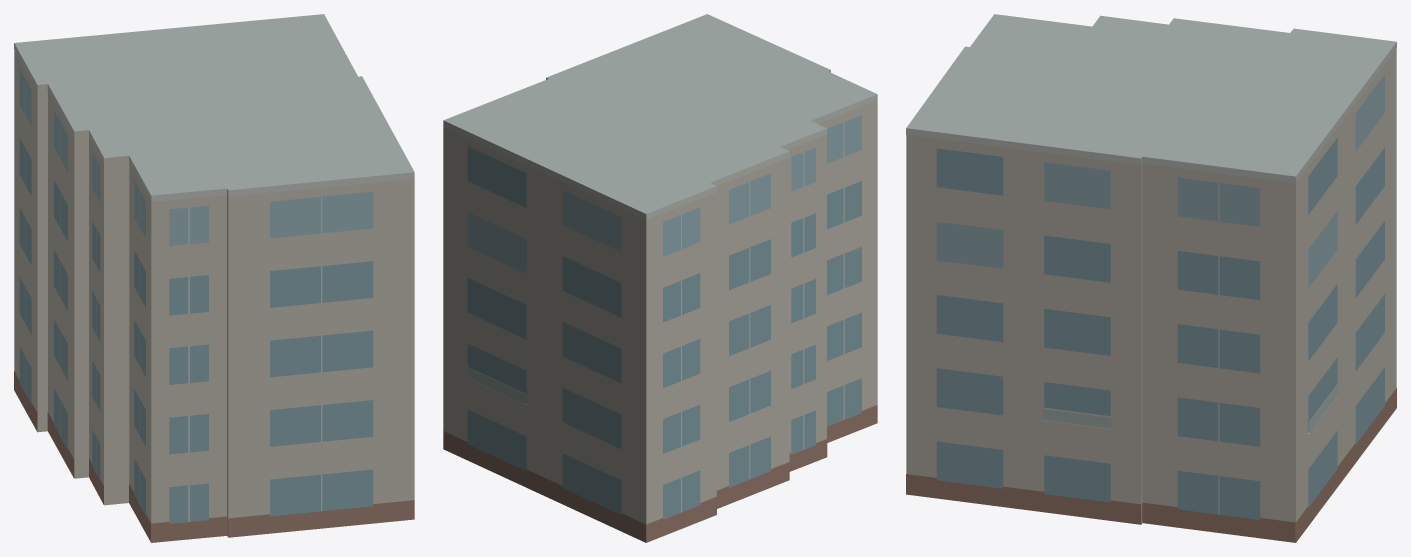
Rendered from survey-upis-32739632.glb.
The picture shows the model from 3 angles, left to right: view 1: azimuth 30°, elevation 25°; view 2: azimuth 150°, elevation 25°; view 3: azimuth 270°, elevation 25°; orthographic projection. The views are drawn at different scales.
Parts seen in each view (by area): view 1: survey-upis-32739632.tmp; view 2: survey-upis-32739632.tmp; view 3: survey-upis-32739632.tmp.
Part boxes in pixels (x1=…): survey-upis-32739632.tmp: x1=14, y1=14, x2=414, y2=542; survey-upis-32739632.tmp: x1=443, y1=14, x2=877, y2=542; survey-upis-32739632.tmp: x1=906, y1=14, x2=1396, y2=542.
Bounding box in the file's own units: 12.63 × 13.26 × 16.11.
